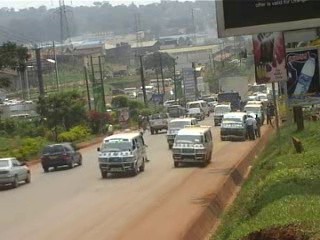Car: (37, 140, 83, 173), (0, 152, 33, 190), (164, 103, 186, 122), (185, 106, 205, 120)
